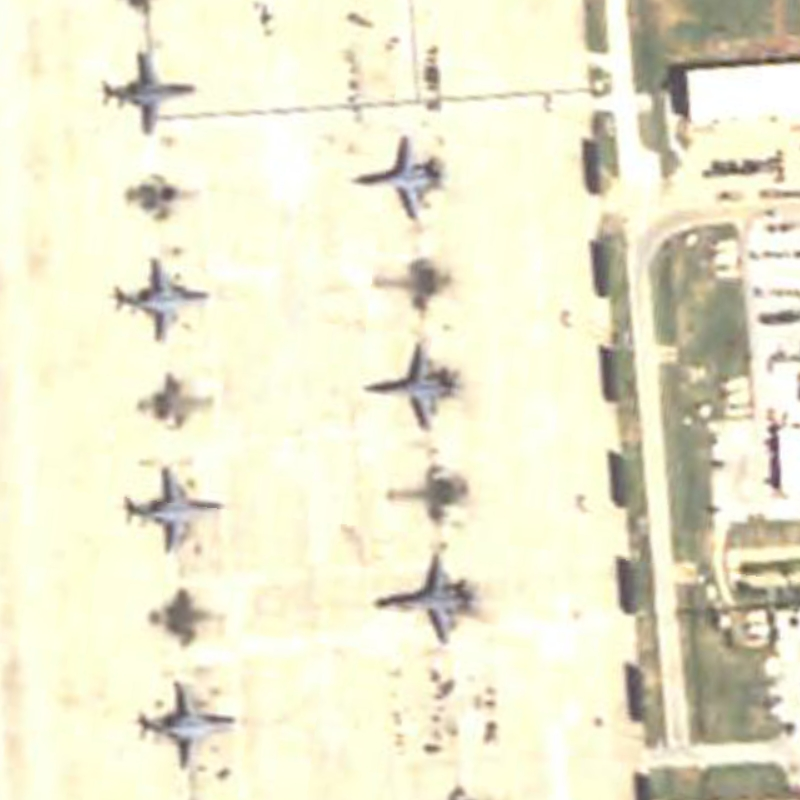A10: (361, 328, 478, 433), (369, 545, 491, 642), (135, 674, 242, 776), (95, 41, 203, 138), (108, 252, 220, 344), (123, 462, 231, 553), (354, 125, 451, 223)
